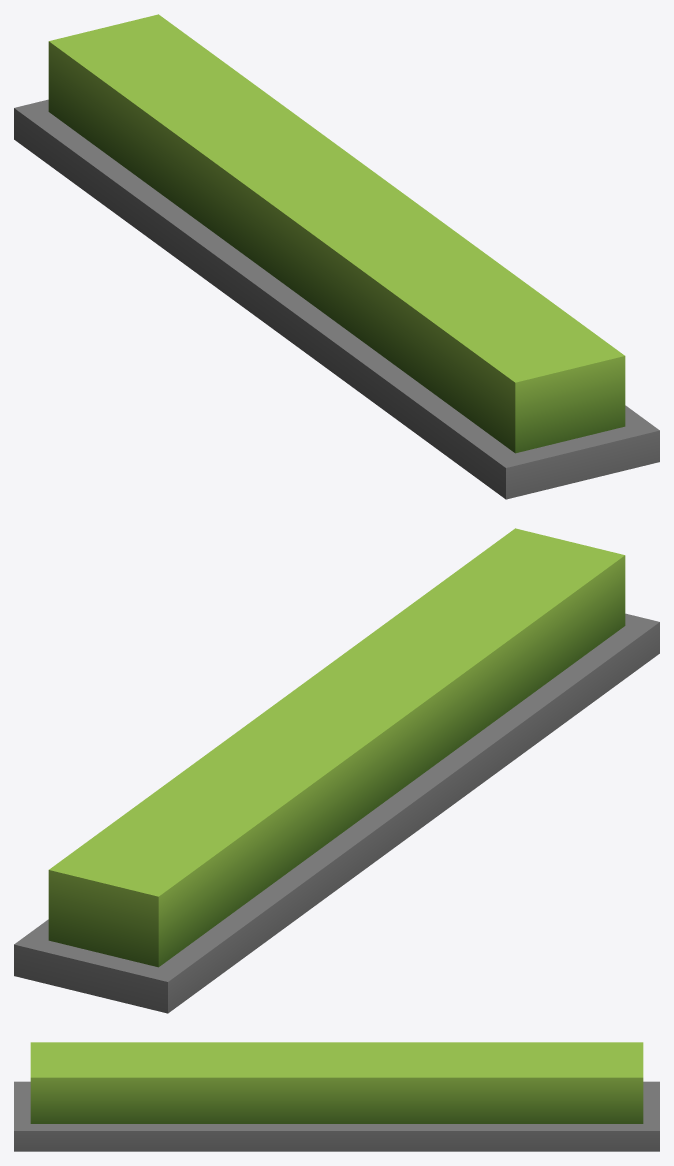
The model's file is grass 11.fbx.
3 views of the same model, one above another, from view 1: azimuth 30°, elevation 25°; view 2: azimuth 150°, elevation 25°; view 3: azimuth 270°, elevation 25° (orthographic). The views are drawn at different scales.
Parts seen in each view (by area): view 1: grass_11; view 2: grass_11; view 3: grass_11.
Boxes of the visible parts, bbox=[...] form: grass_11: bbox=[14, 14, 659, 499]; grass_11: bbox=[14, 528, 659, 1013]; grass_11: bbox=[14, 1042, 659, 1151].
Size of the model in its own units: 151 by 95.64 by 834.
Materials: 1 (1 with a texture image).
